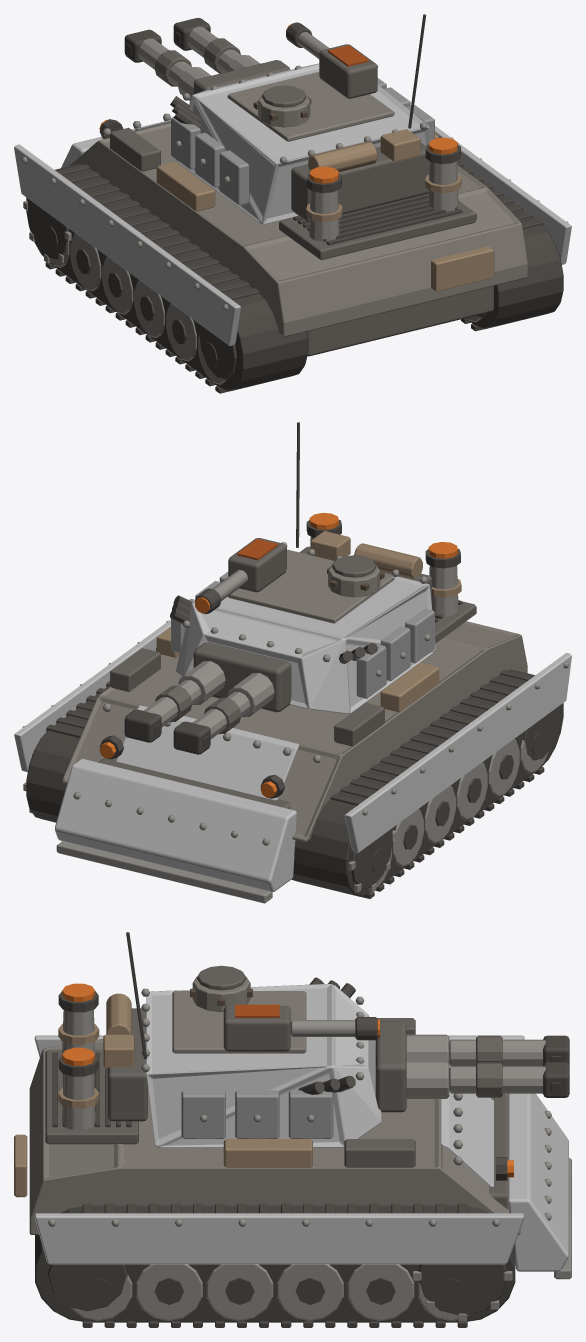
File: crucible_heavy_assault.glb
3 renders of one model, top to bottom at view 1: azimuth 30°, elevation 25°; view 2: azimuth 150°, elevation 25°; view 3: azimuth 270°, elevation 25°, orthographic. The views are drawn at different scales.
Visible parts, largest first — view 1: Body, Turret; view 2: Body, Turret; view 3: Body, Turret.
Boxes of the visible parts, <box> form: Body: <box>14,113,571,393</box>; Turret: <box>124,14,434,224</box>; Body: <box>14,513,571,903</box>; Turret: <box>124,422,435,754</box>; Body: <box>14,983,571,1327</box>; Turret: <box>103,932,569,1147</box>.
Size of the model in its own units: 1.98 by 1.69 by 2.5.
